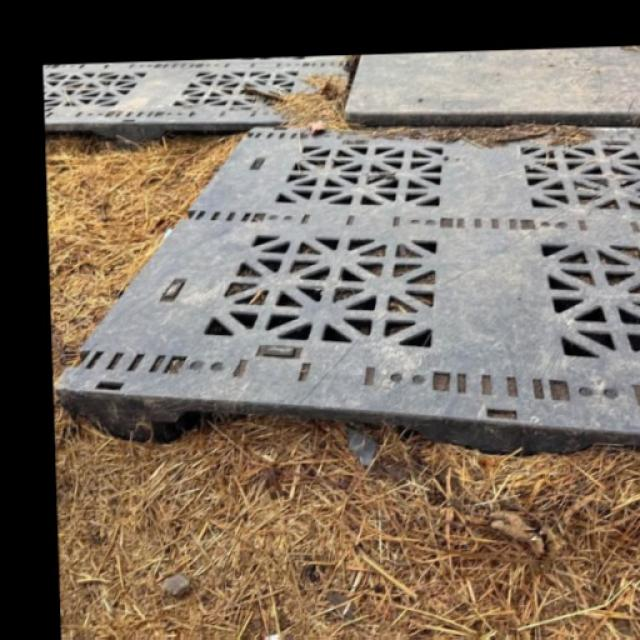non-igps: (49, 120, 639, 466), (41, 53, 360, 155), (338, 43, 640, 131)
